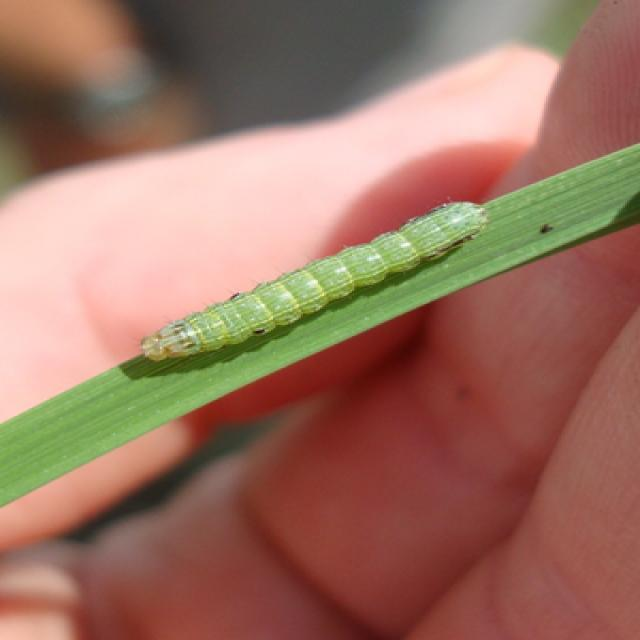armyworm: (124, 195, 497, 373)
